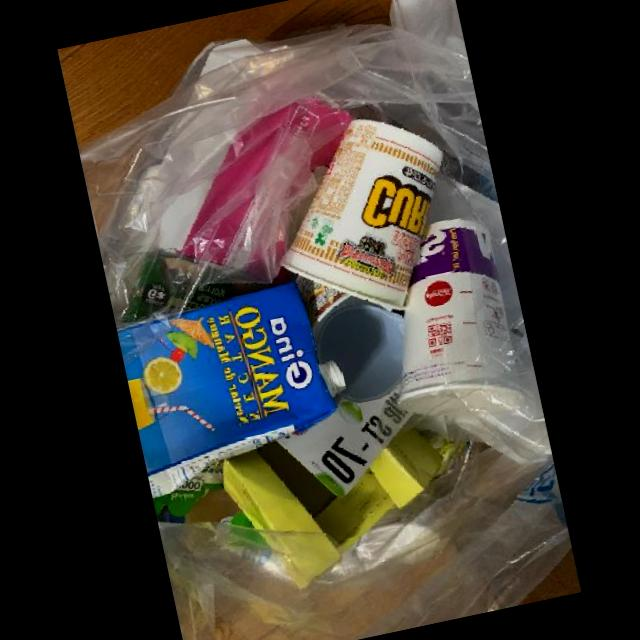giay: (397, 218, 526, 416)
vo_hop_sua: (116, 280, 345, 498)
